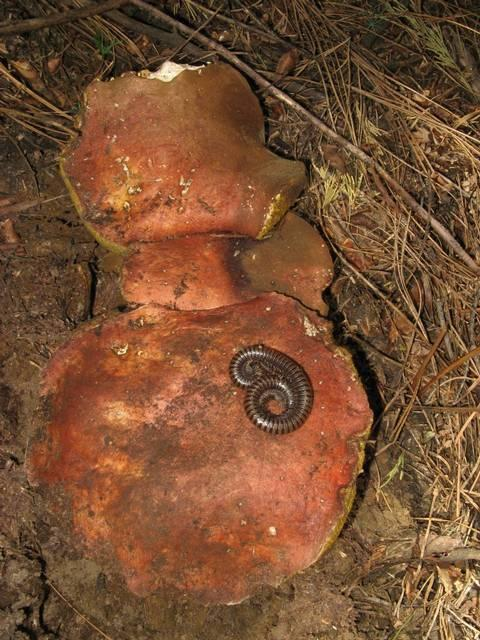Edible Mushroom: (24, 59, 376, 606)
